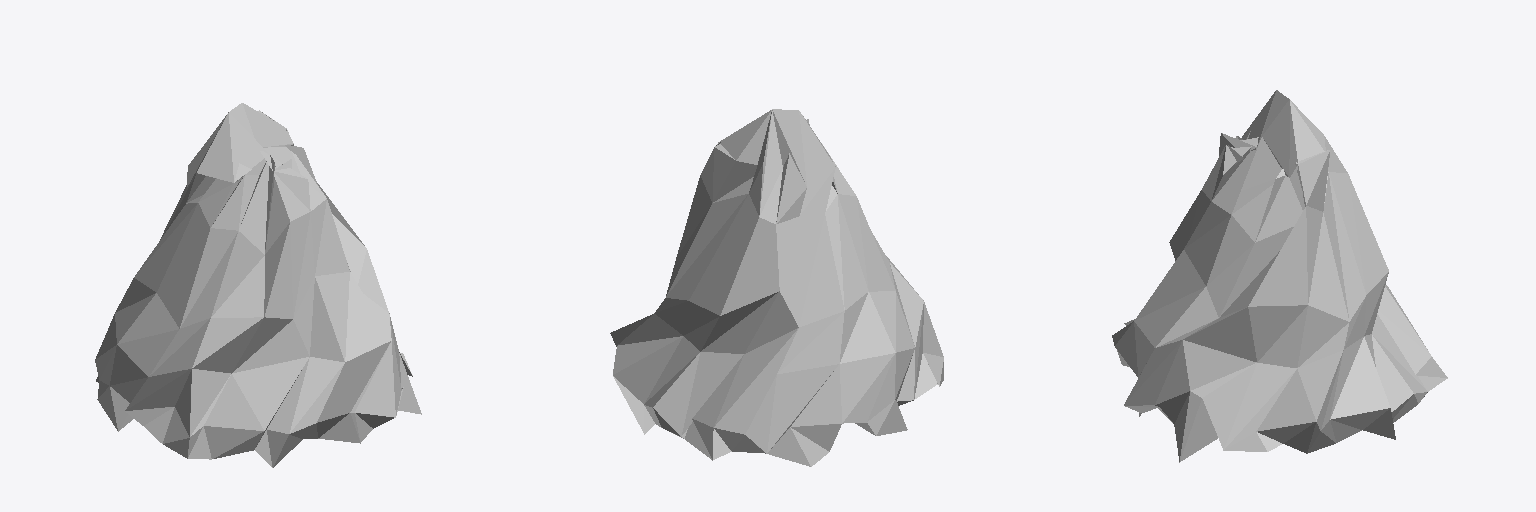
File: caramel sauced.obj
3 renders of one model, left to right at view 1: azimuth 30°, elevation 25°; view 2: azimuth 150°, elevation 25°; view 3: azimuth 270°, elevation 25°, orthographic.
Parts seen in each view (by area): view 1: caramel_sauced; view 2: caramel_sauced; view 3: caramel_sauced.
Boxes of the visible parts, box(x1,y1,x2,y2) form: caramel_sauced: box(95, 103, 421, 467); caramel_sauced: box(610, 109, 943, 466); caramel_sauced: box(1112, 90, 1447, 462).
Size of the model in its own units: 0.0925 by 0.0953 by 0.0953.